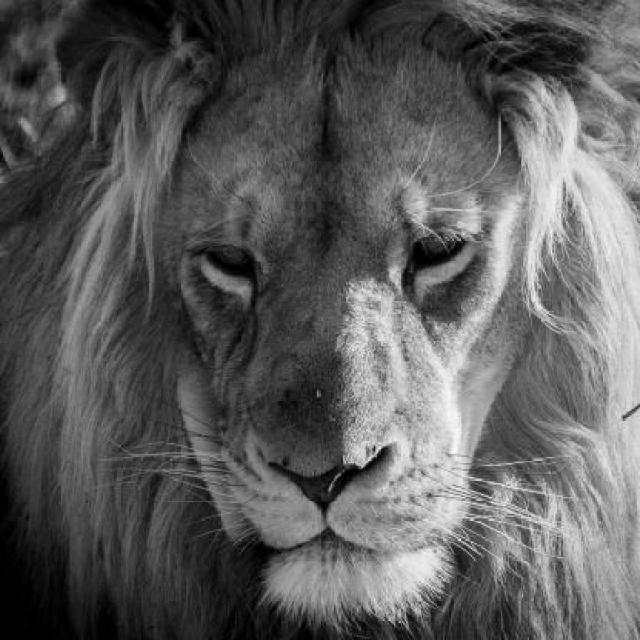Lion: (44, 9, 634, 638)
